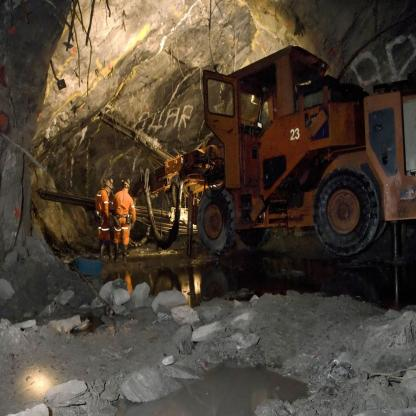person: (86, 174, 114, 258), (114, 173, 134, 263)
